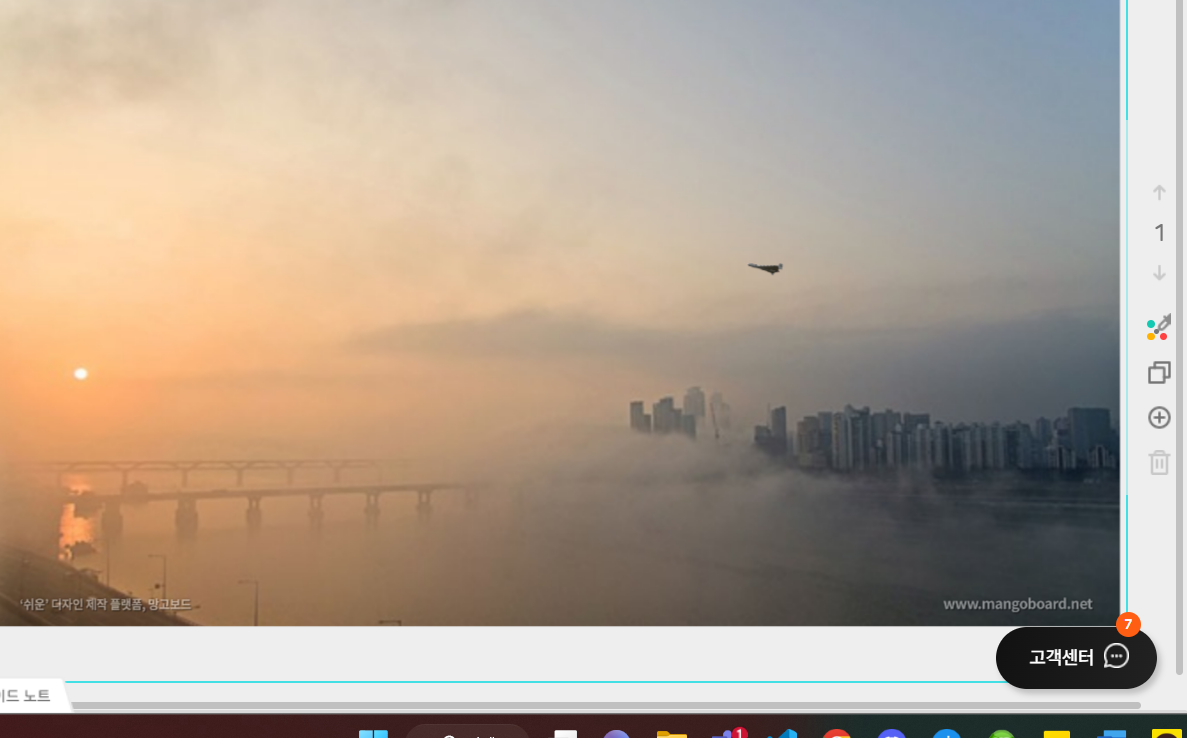military drone: (746, 262, 782, 275)
